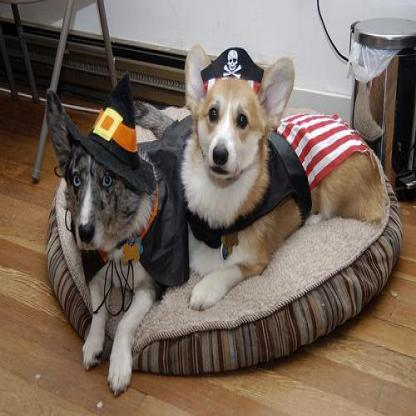Cardigan: (174, 40, 388, 311), (43, 70, 188, 396)
